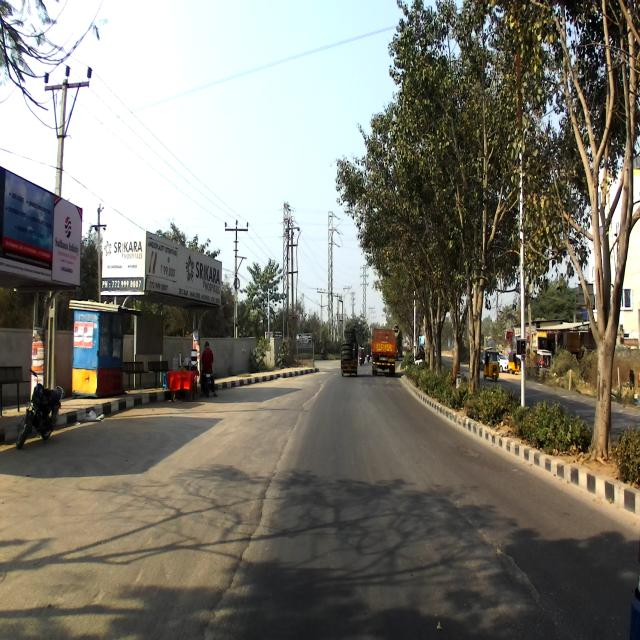motorcycle ahead at: (16, 360, 64, 451)
